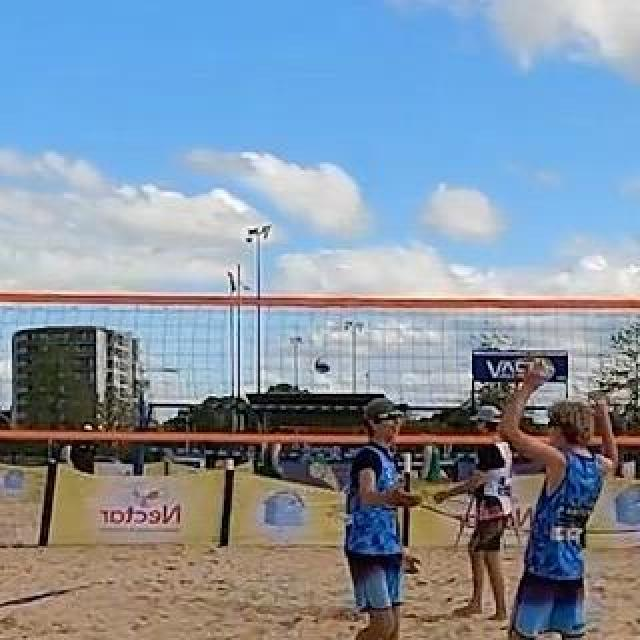volleyball: (315, 357, 331, 373)
